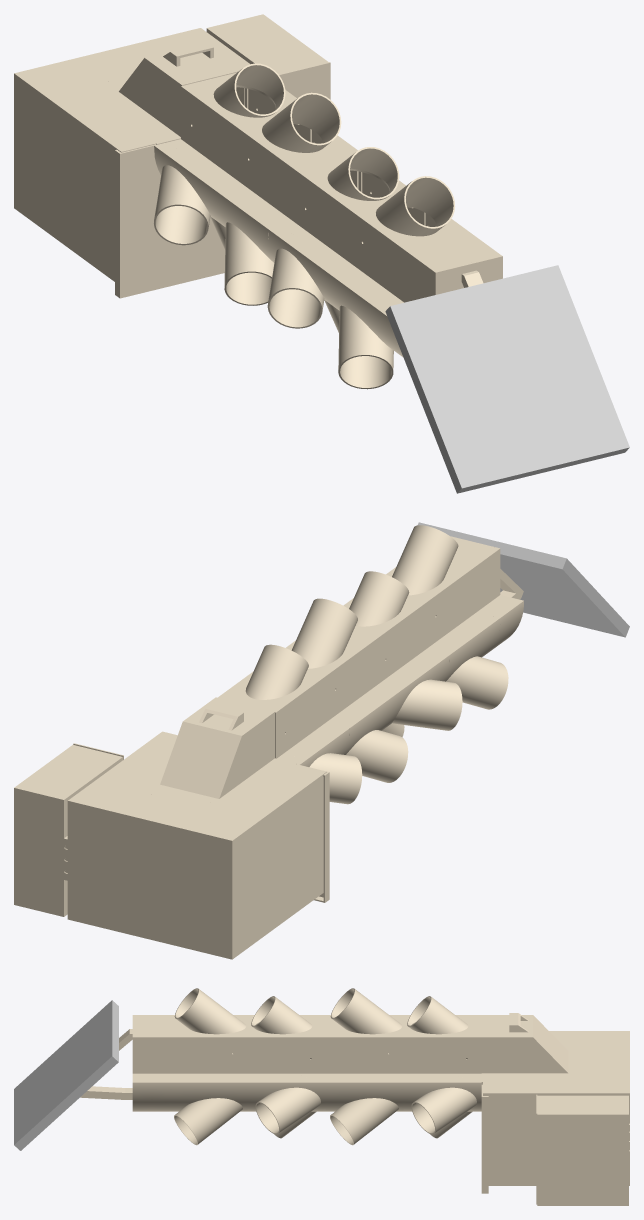
The model's file is tour.glb.
3 renders of one model, top to bottom at view 1: azimuth 30°, elevation 25°; view 2: azimuth 150°, elevation 25°; view 3: azimuth 270°, elevation 25°, orthographic. The views are drawn at different scales.
Parts seen in each view (by area): view 1: Body1 (×11); view 2: Body1 (×9); view 3: Body1 (×9), Body2.
Part boxes in pixels (left/top/right/bottom): Body1 (×11): left=14, top=14, right=629, bottom=493; Body1 (×9): left=14, top=522, right=629, bottom=959; Body1 (×9): left=14, top=988, right=629, bottom=1205; Body2: left=80, top=1029, right=132, bottom=1099.
Bounding box in the file's own units: 0.3369 × 0.3195 × 1.04.
